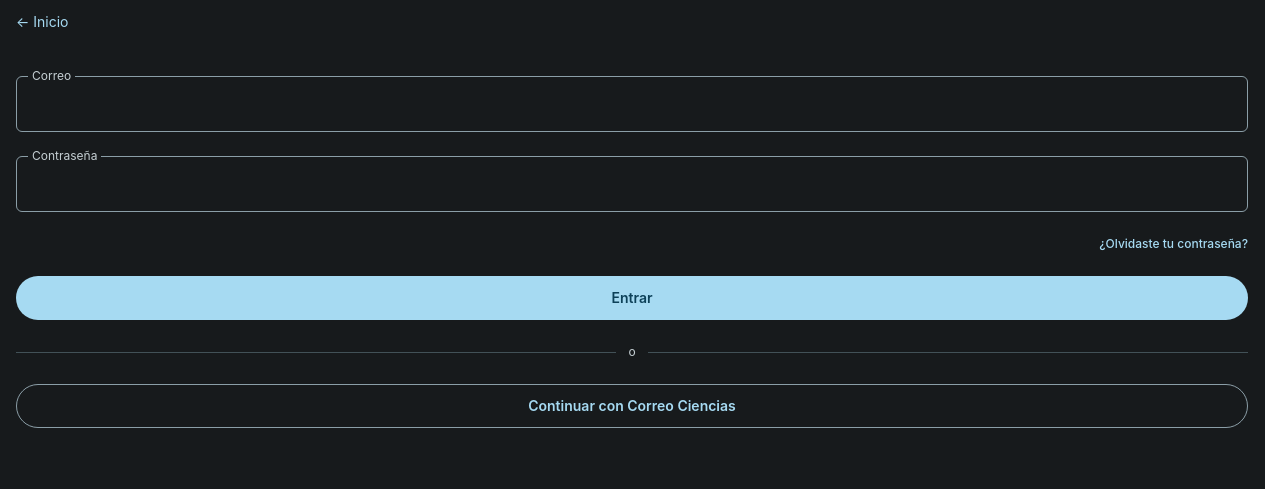
Test case: Login › muestra el mensaje de credenciales inválidas cuando el backend responde 400
Type "ana@ciencias.unam.mx" into the field labelled "Correo" at (632, 104), box x1=16 y1=76 x2=1248 y2=132
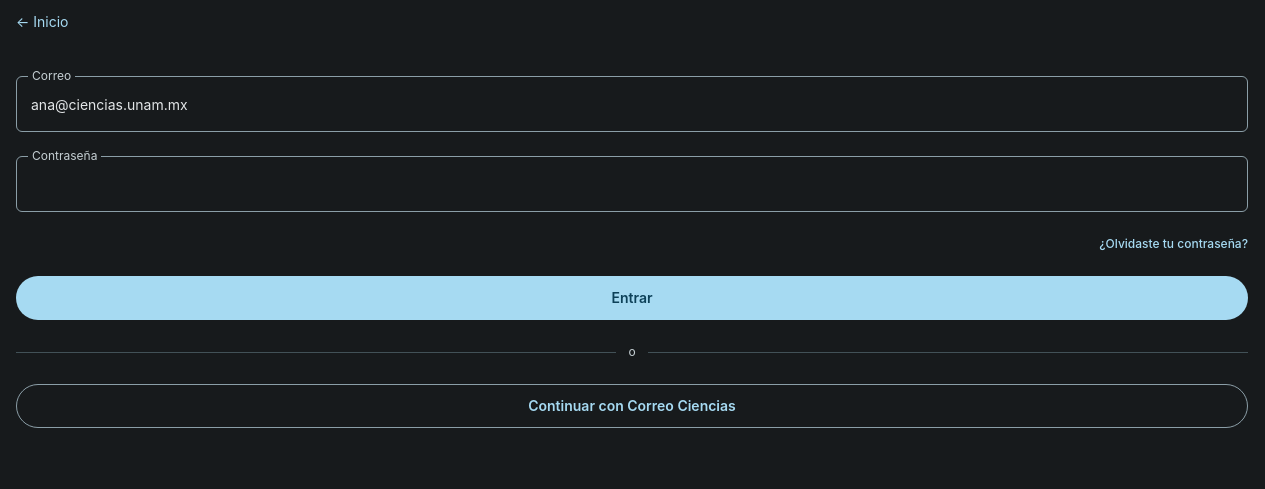
Type "ClaveSegura123!" into the password field labelled "Contraseña" at (632, 184), box x1=16 y1=156 x2=1248 y2=212
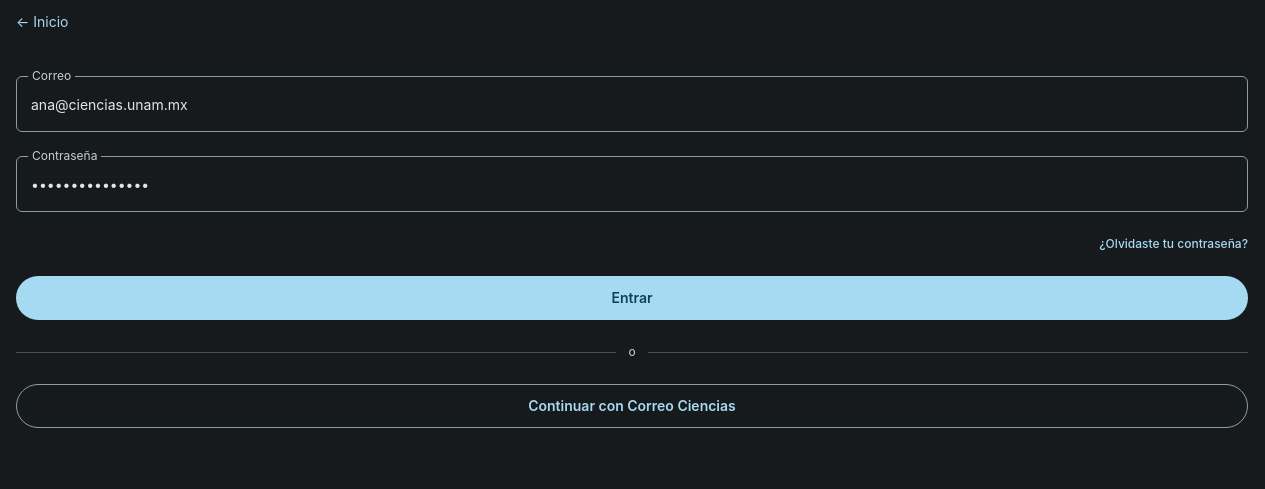
Click the button "Entrar" at (632, 298), box x1=16 y1=276 x2=1248 y2=320
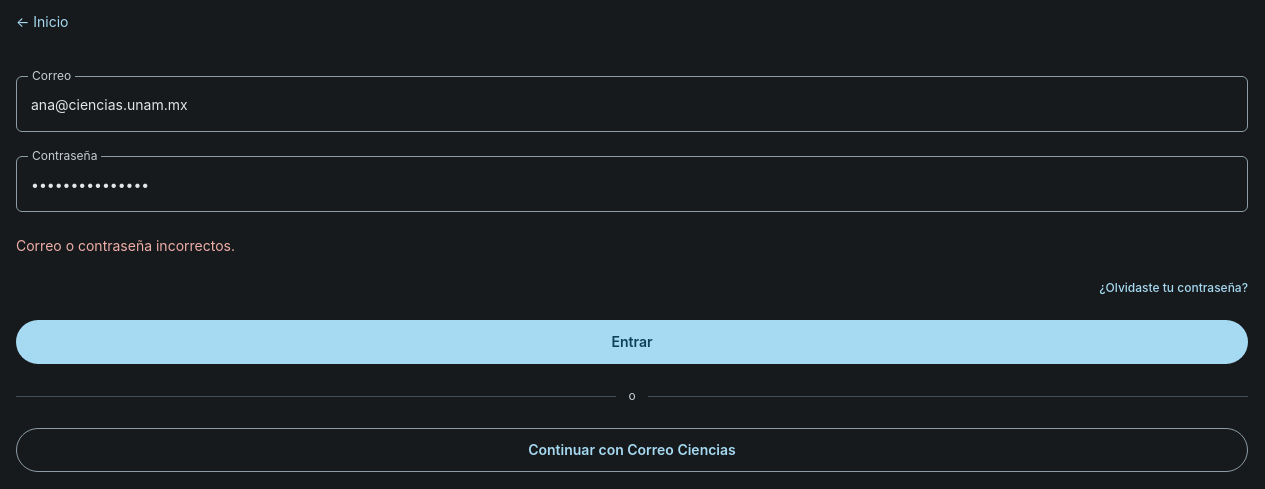
Result: the message reads "Correo o contraseña incorrectos." at x1=16 y1=237 x2=235 y2=254
